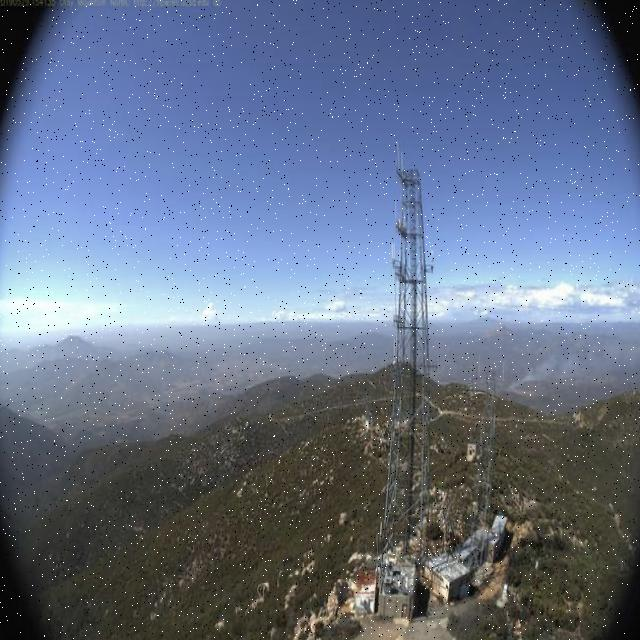smoke: (500, 338, 640, 392)
